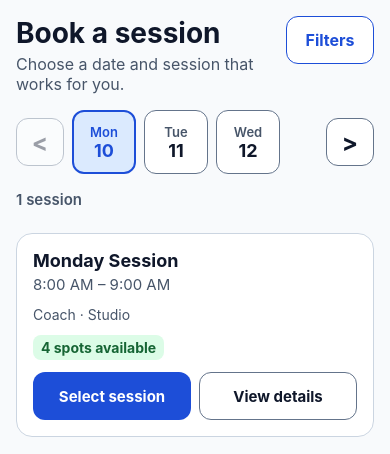
Test case: BookingScreen › ignores stale session responses after rapid date changes
Expected: the text "Monday Session" is shown, [33,250,178,271]
Click the button with aria-label "Tuesday, August 11, 2026". click: [176, 142]
box: [144,110,208,174]
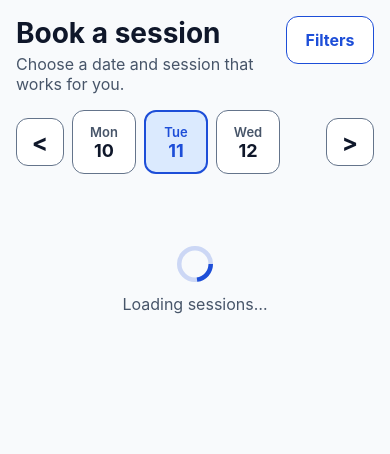
Click the button with aria-label "Wednesday, August 12, 2026". click: [248, 142]
box: [216,110,280,174]
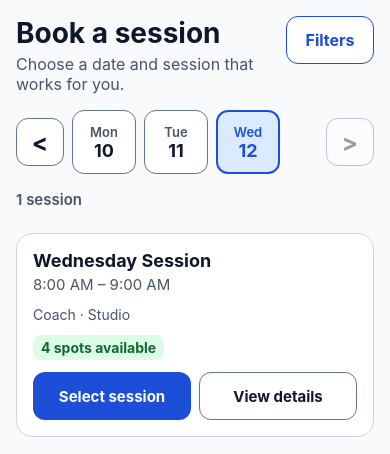
Expected: the text "Wednesday Session" is shown, [33,250,211,271]
